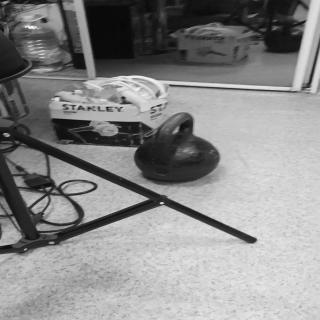kettlebell: (134, 114, 223, 185)
